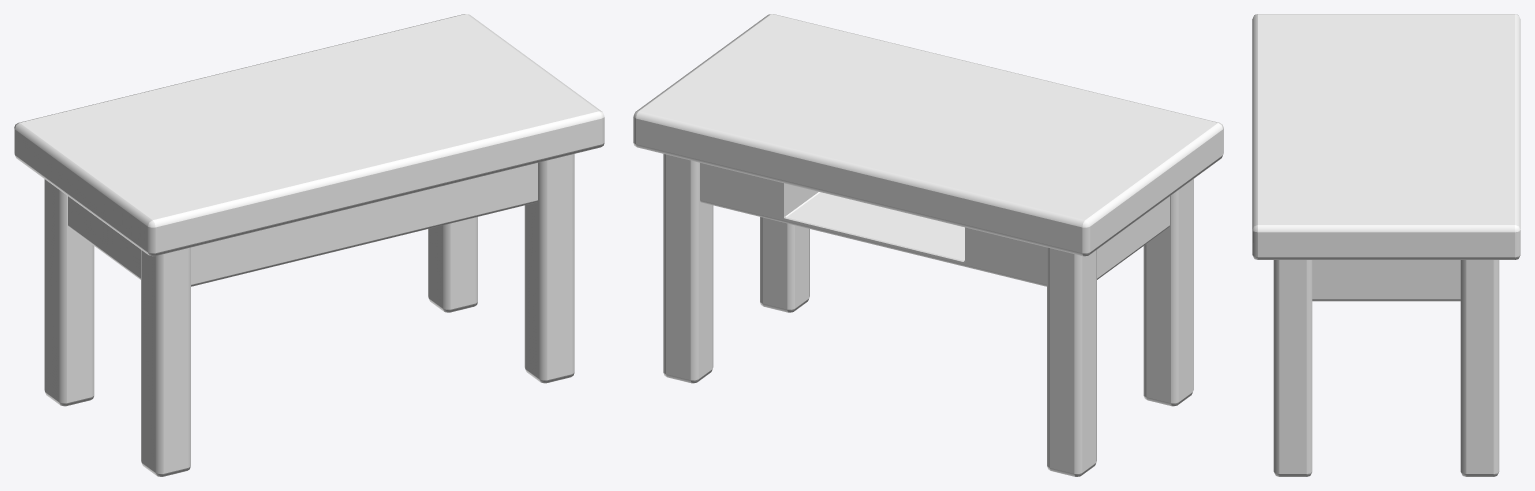
The model's file is Table.fbx.
3 views of the same model, side by side, from view 1: azimuth 30°, elevation 25°; view 2: azimuth 150°, elevation 25°; view 3: azimuth 270°, elevation 25° (orthographic). The views are drawn at different scales.
Visible parts, largest first — view 1: Table; view 2: Table; view 3: Table.
Boxes of the visible parts, bbox=[...] form: Table: bbox=[14, 14, 604, 476]; Table: bbox=[633, 14, 1223, 476]; Table: bbox=[1252, 14, 1520, 476].
Size of the model in its own units: 1.36 by 0.7697 by 0.7175.
